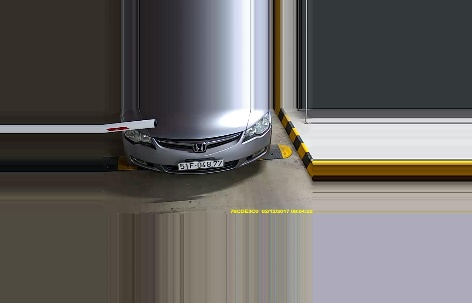plate: (176, 157, 224, 170)
